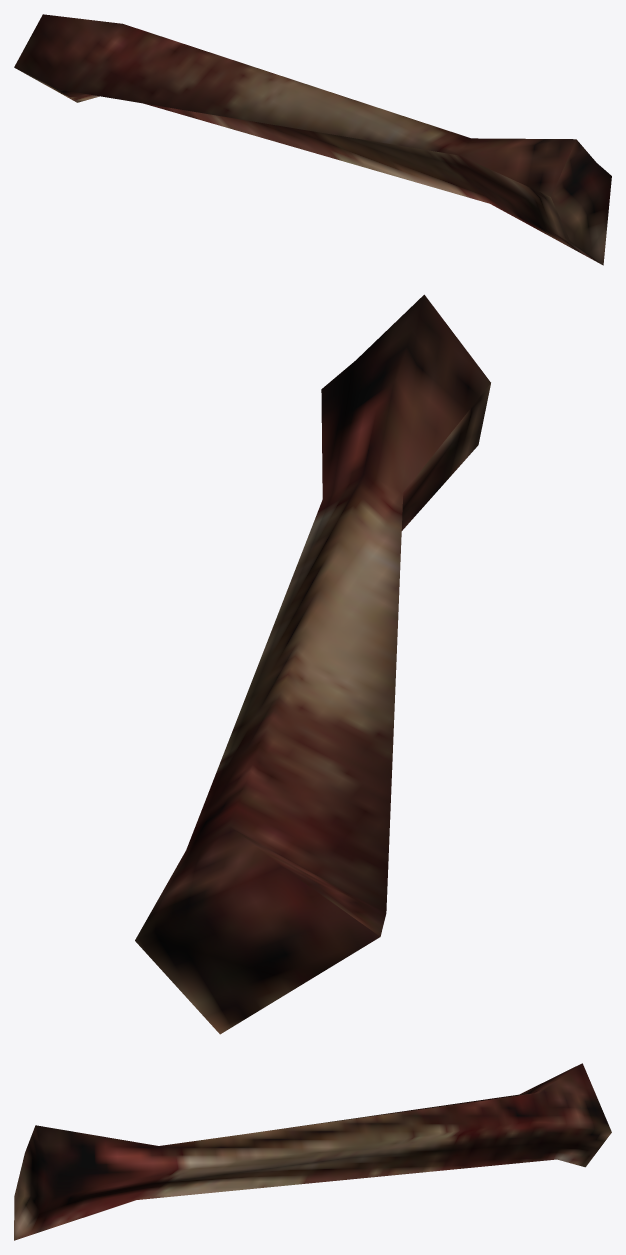
File: B_kulou004.fbx
3 renders of one model, top to bottom at view 1: azimuth 30°, elevation 25°; view 2: azimuth 150°, elevation 25°; view 3: azimuth 270°, elevation 25°, orthographic. The views are drawn at different scales.
Parts seen in each view (by area): view 1: B_kulou004; view 2: B_kulou004; view 3: B_kulou004.
Boxes of the visible parts, left/top/right/bottom form: B_kulou004: left=14, top=14, right=611, bottom=265; B_kulou004: left=135, top=294, right=490, bottom=1034; B_kulou004: left=14, top=1063, right=611, bottom=1240.
Bounding box in the file's own units: 59.04 × 25.21 × 108.
